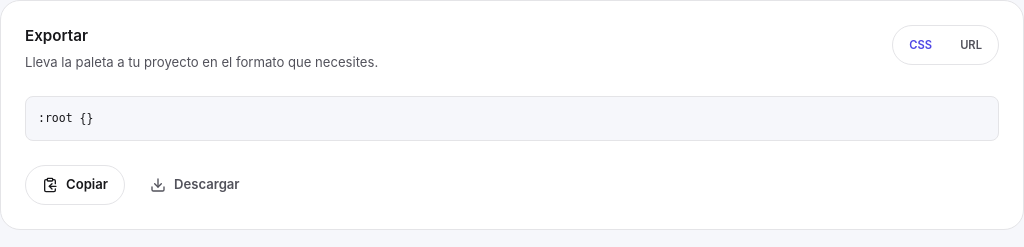
Test case: ExportPanel › muestra Abrir URL en vez de descargar para el formato URL
Click the button "URL" at (971,45), box [948,30,994,60]
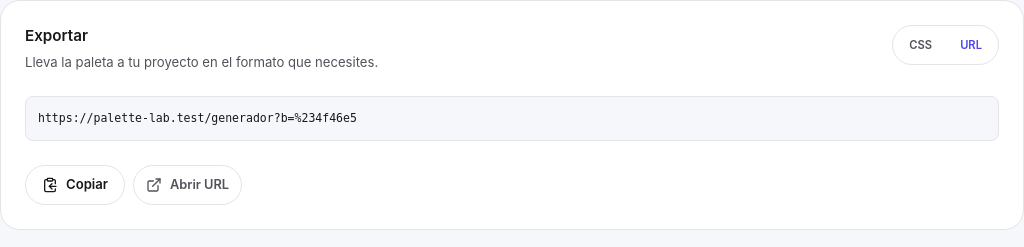
Expected: the text "Abrir URL" is shown, [133,165,242,205]
Expected: the text "Descargar" is gone
